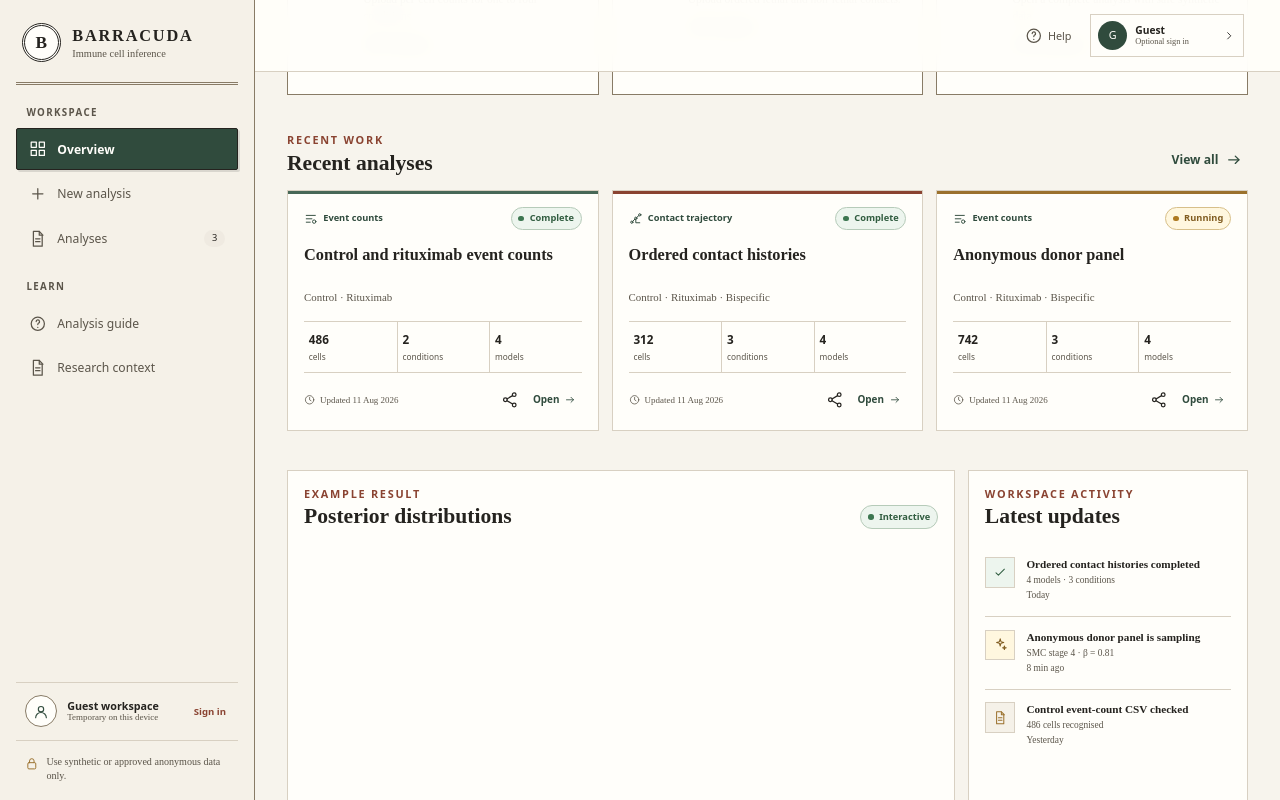
Scenario: guest workspace › opens a share dialog from a saved analysis
(page scrolled)
Expected: the heading "Control and rituximab event counts" is shown, [304,245,553,264]
Click the button named "share control and rituximab": (510,400) [493,383,527,417]
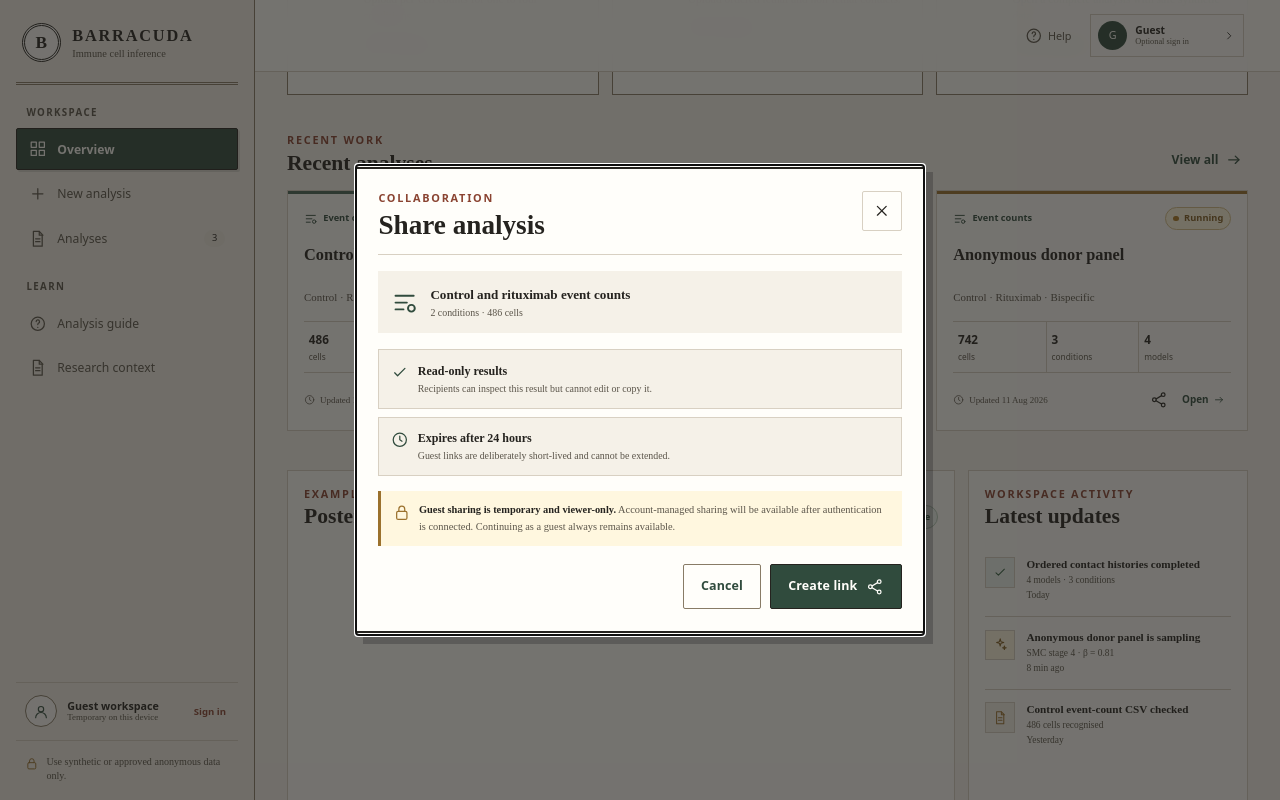
Expected: the dialog "Share analysis" is shown, [355,164,925,636]
Expected: the text "Guest sharing is temporary and viewer-only." is shown, [419,504,616,515]
Expected: the text "Expires after 24 hours" is shown, [418,431,532,445]
